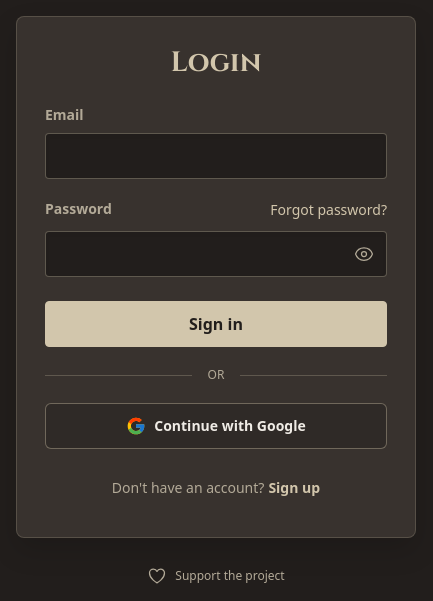
Test case: toggles password visibility without changing its value
The width and height of the screenshot is (433, 601).
Type "a secret" into the password field labelled "Password" at (216,254), box [45, 231, 387, 277]
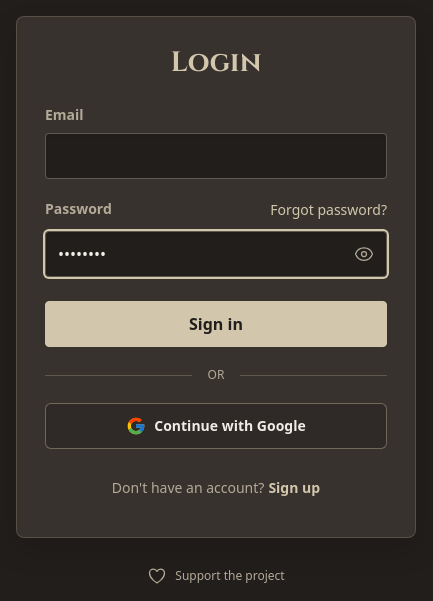
Click the button named "Show password" at (364,254), box [342, 232, 386, 276]
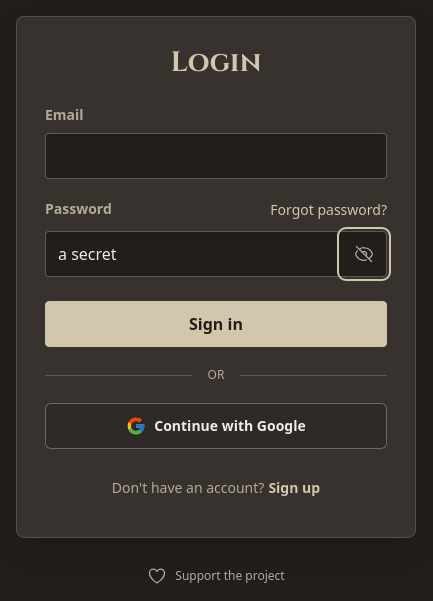
Check: the field labelled "Password" shows its text, box [45, 231, 387, 277]
Click the button named "Hide password" at (364,254), box [342, 232, 386, 276]
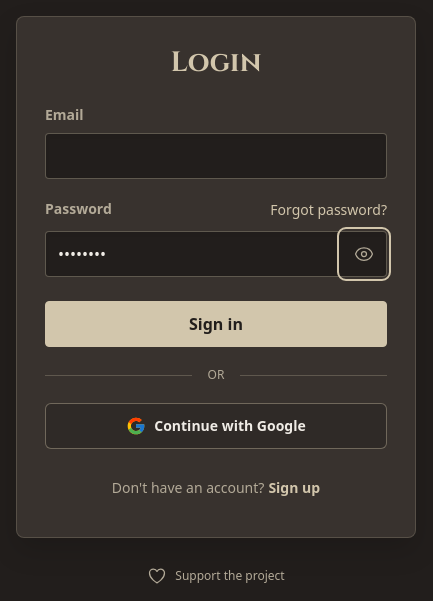
Check: the password field labelled "Password" hides its text, box [45, 231, 387, 277]
